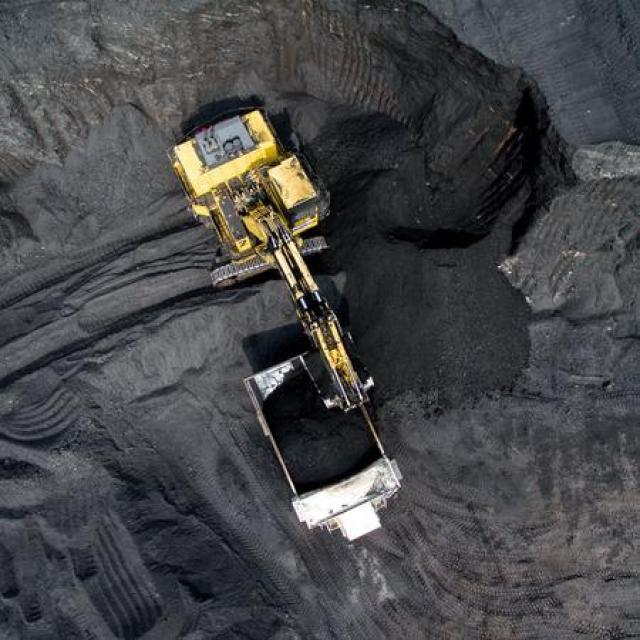Camion volquete: (238, 342, 407, 548)
Excavadora: (164, 98, 392, 417)
